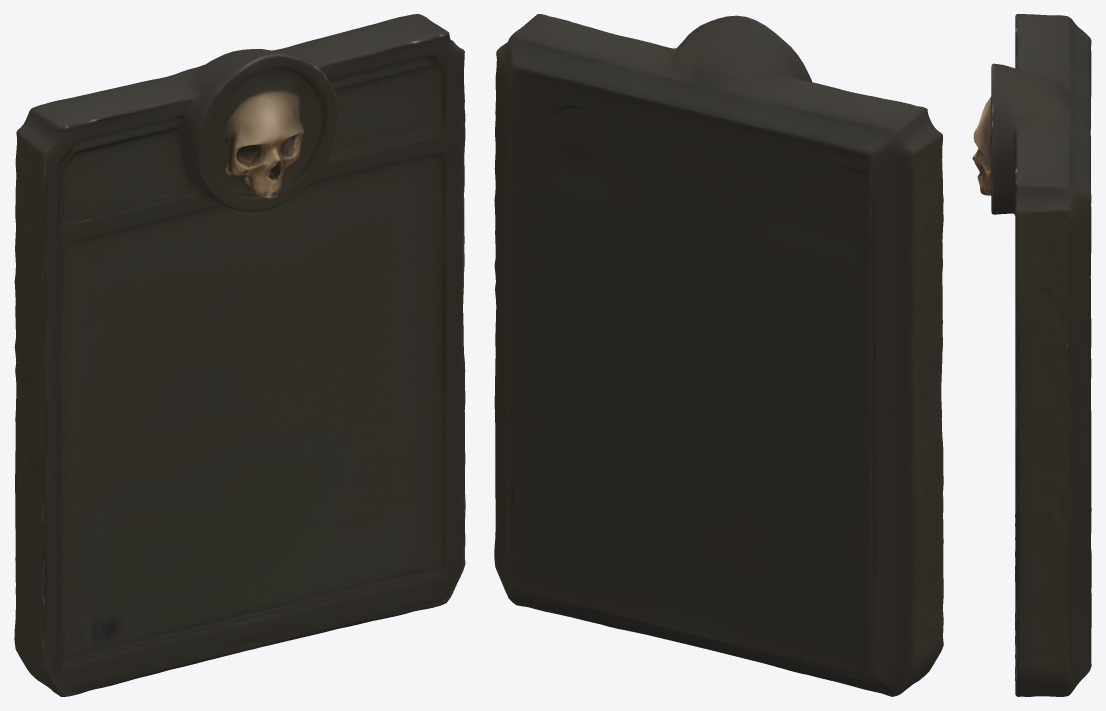
The model's file is base_basic_shaded.fbx.
The picture shows the model from 3 angles, left to right: view 1: azimuth 30°, elevation 25°; view 2: azimuth 150°, elevation 25°; view 3: azimuth 270°, elevation 25°; orthographic projection. The views are drawn at different scales.
Visible parts, largest first — view 1: model; view 2: model; view 3: model.
Part boxes in pixels (x1,y1,x2,y2): model: [14, 14, 465, 696]; model: [494, 14, 943, 696]; model: [972, 14, 1091, 696].
Size of the model in its own units: 139 by 190 by 37.62.
